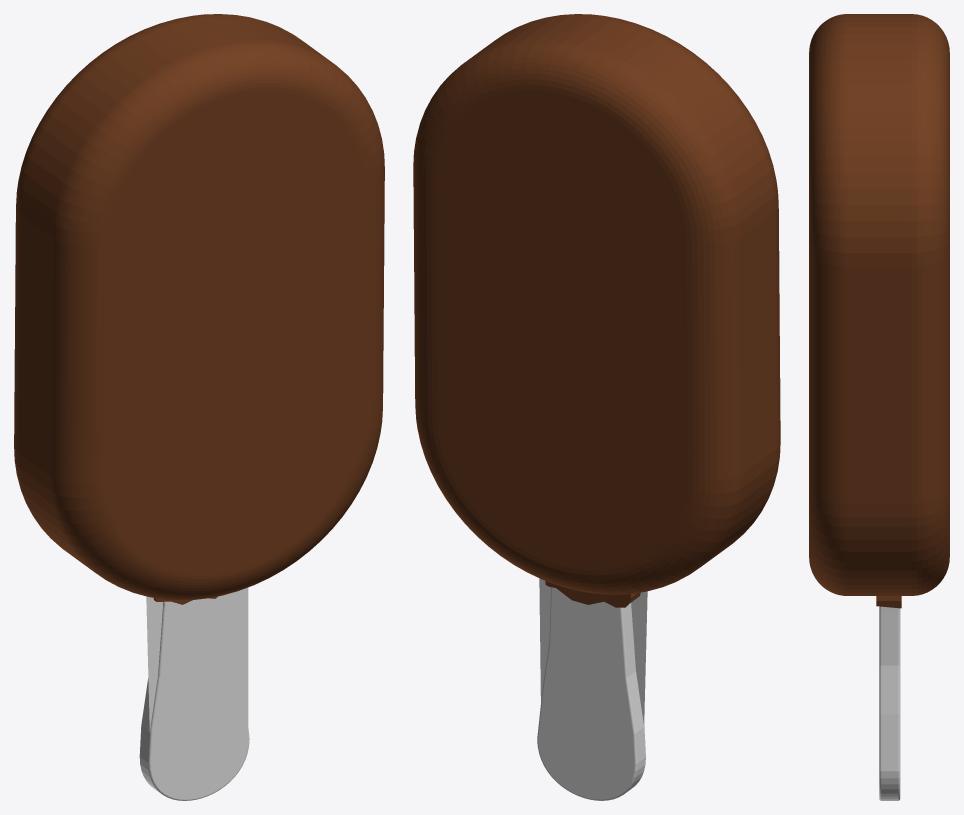
File: gelato.fbx
3 renders of one model, left to right at view 1: azimuth 30°, elevation 25°; view 2: azimuth 150°, elevation 25°; view 3: azimuth 270°, elevation 25°, orthographic.
Visible parts, largest first — view 1: stecca.001; view 2: stecca.001; view 3: stecca.001.
Boxes of the visible parts, x1,y1,x2,y2 form: stecca.001: (14,14,384,800); stecca.001: (413,14,780,800); stecca.001: (809,14,949,800).
Bounding box in the file's own units: 660 × 1468 × 246.
